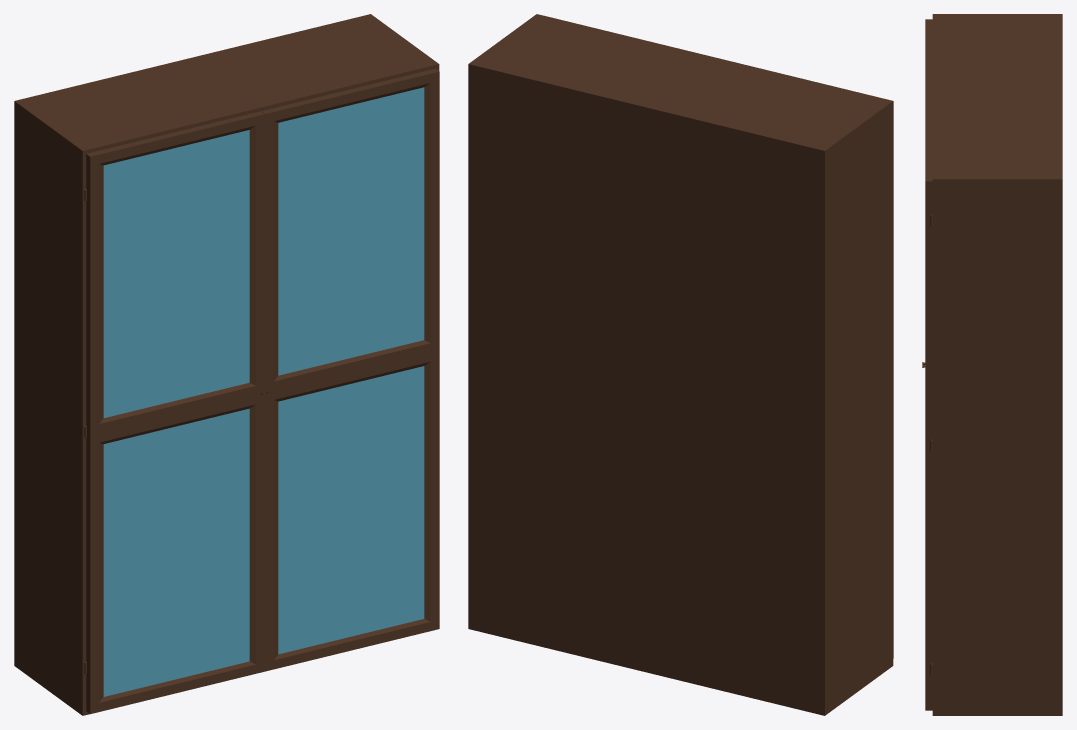
File: armario.FBX
3 views of the same model, side by side, from view 1: azimuth 30°, elevation 25°; view 2: azimuth 150°, elevation 25°; view 3: azimuth 270°, elevation 25° (orthographic). The views are drawn at different scales.
Visible parts, largest first — view 1: Box006; view 2: Box006; view 3: Box006.
Part boxes in pixels (x1=…): Box006: x1=14, y1=14, x2=439, y2=715; Box006: x1=468, y1=14, x2=893, y2=715; Box006: x1=922, y1=14, x2=1062, y2=715.
Size of the model in its own units: 1.47 by 2.22 by 0.5261.
